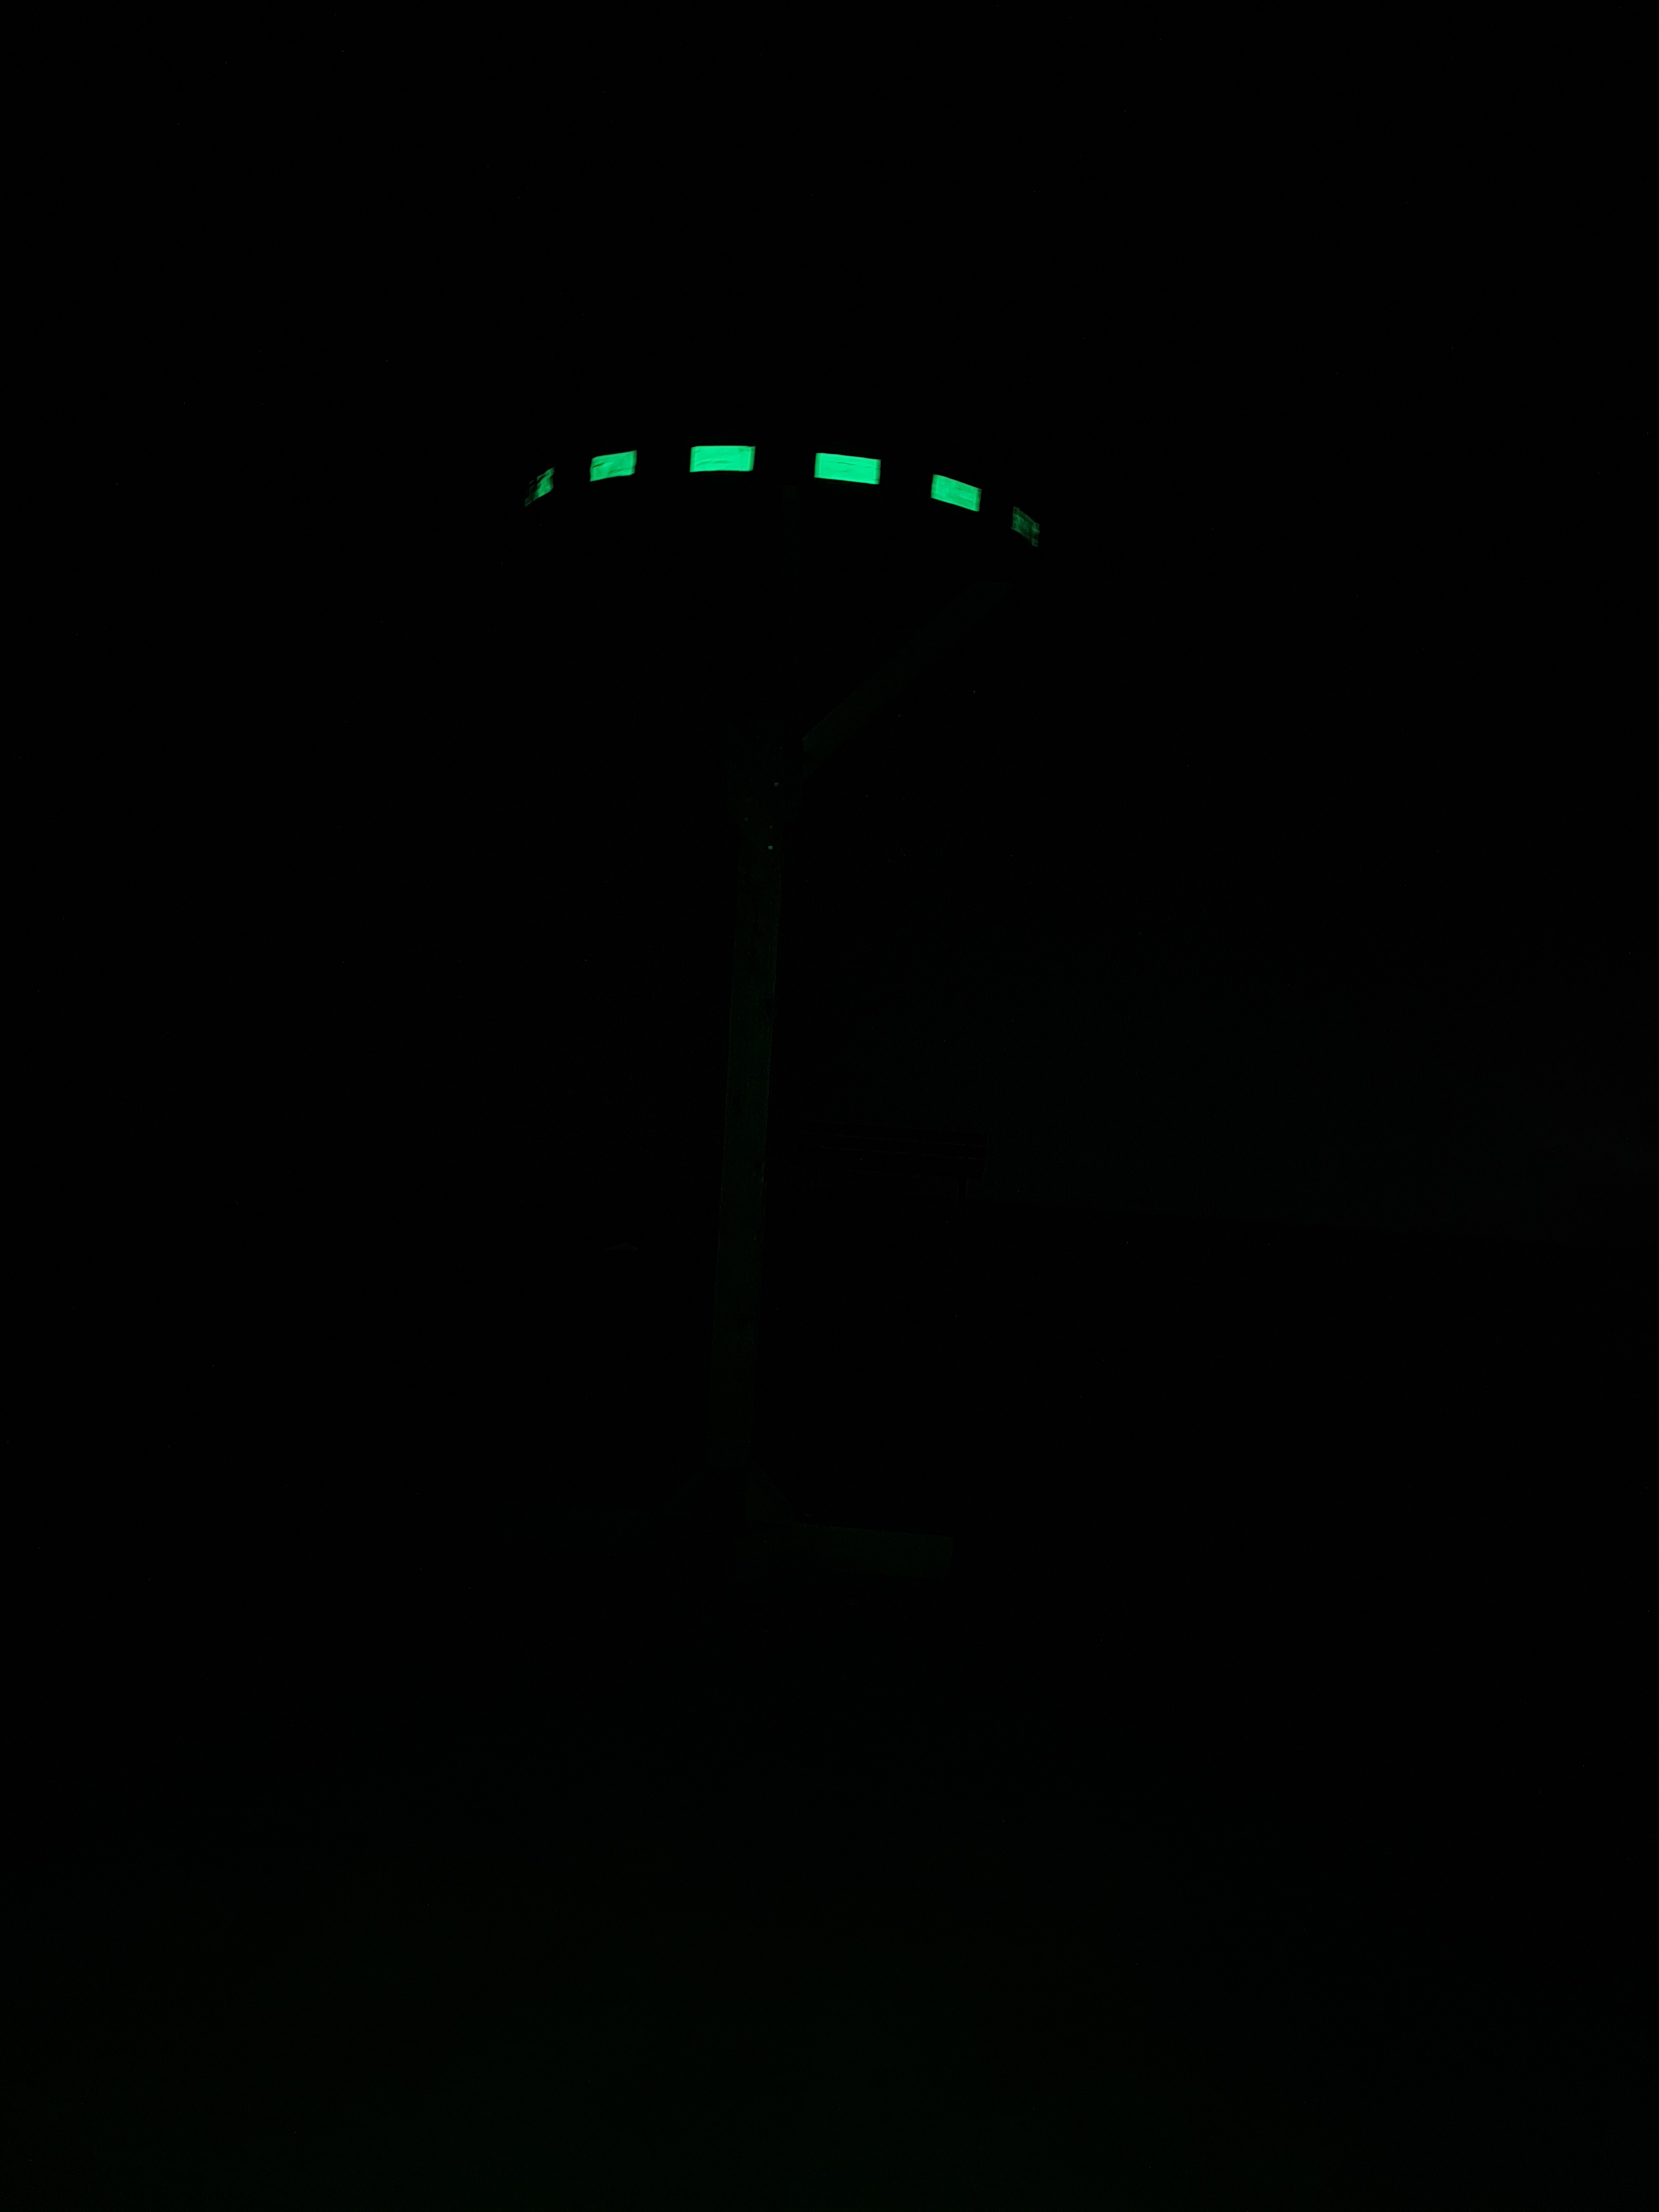hoop: (528, 427, 1047, 559)
